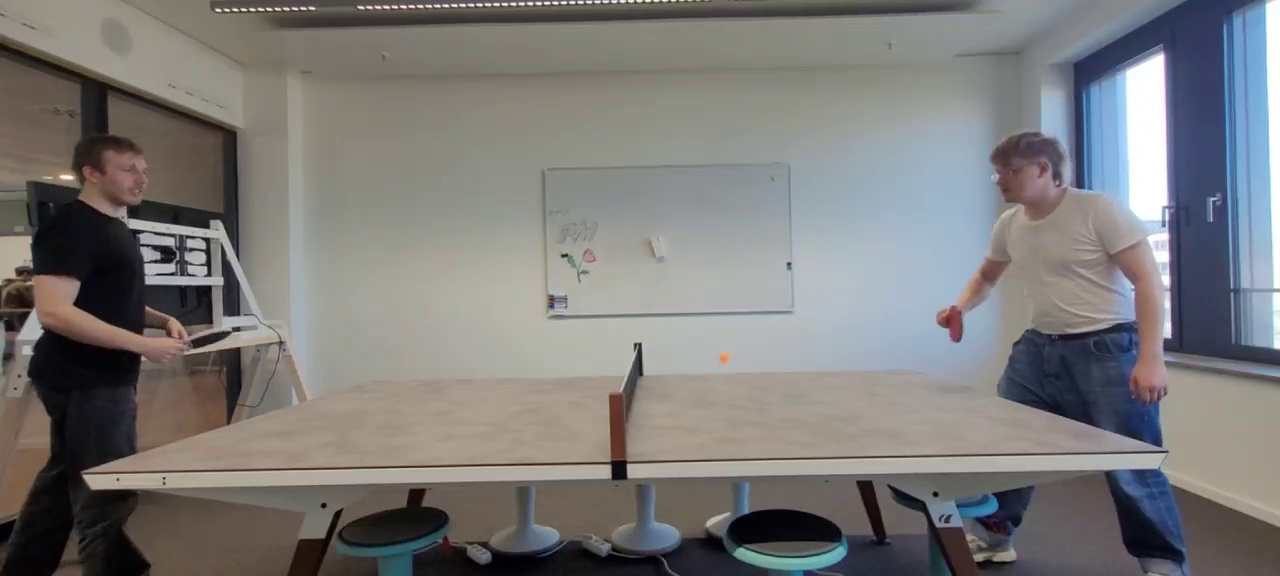plate: (82, 368, 1167, 474)
racket: (188, 329, 232, 349), (949, 305, 962, 343)
ttball: (720, 352, 728, 363)
